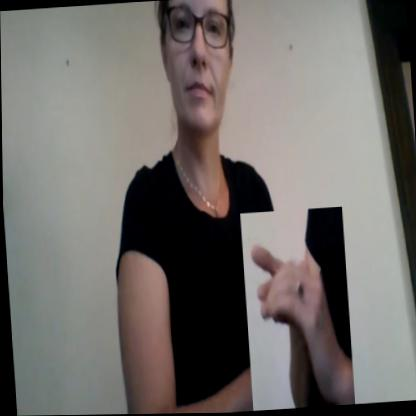ExcuseMe: (239, 207, 353, 411)
